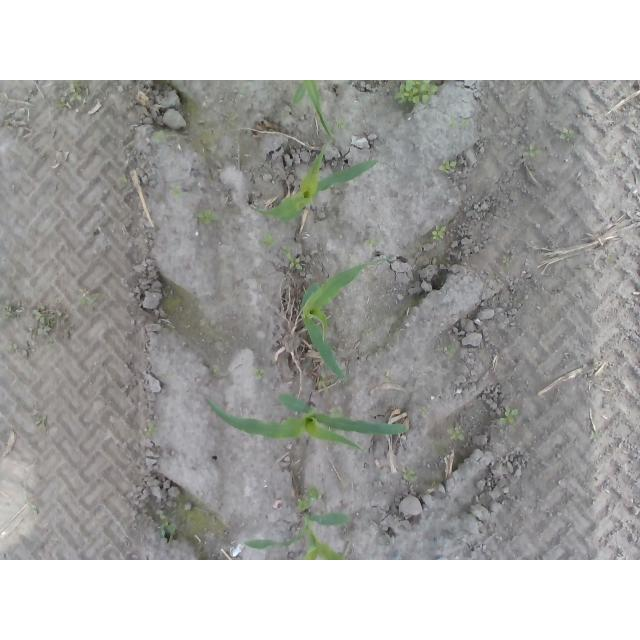Maize: (200, 389, 409, 455), (248, 144, 381, 224), (300, 261, 370, 384), (241, 508, 353, 561), (292, 80, 337, 138)
Weeds: (394, 81, 441, 108), (56, 80, 83, 109), (32, 304, 56, 336), (298, 485, 323, 511), (282, 243, 303, 271), (197, 209, 224, 224), (498, 408, 519, 427), (449, 114, 471, 131), (256, 231, 273, 250), (431, 222, 446, 242), (559, 128, 577, 144), (439, 158, 457, 174), (160, 519, 176, 537), (526, 143, 544, 158), (143, 422, 158, 438), (79, 293, 95, 307), (448, 428, 465, 441), (502, 253, 515, 267), (168, 183, 180, 198), (329, 406, 344, 418), (403, 469, 418, 481), (154, 130, 166, 143), (418, 407, 430, 418), (336, 120, 348, 131), (255, 368, 265, 381), (363, 327, 374, 337), (5, 304, 12, 316), (120, 176, 129, 185), (365, 238, 375, 246), (448, 344, 456, 353), (31, 506, 37, 515)
